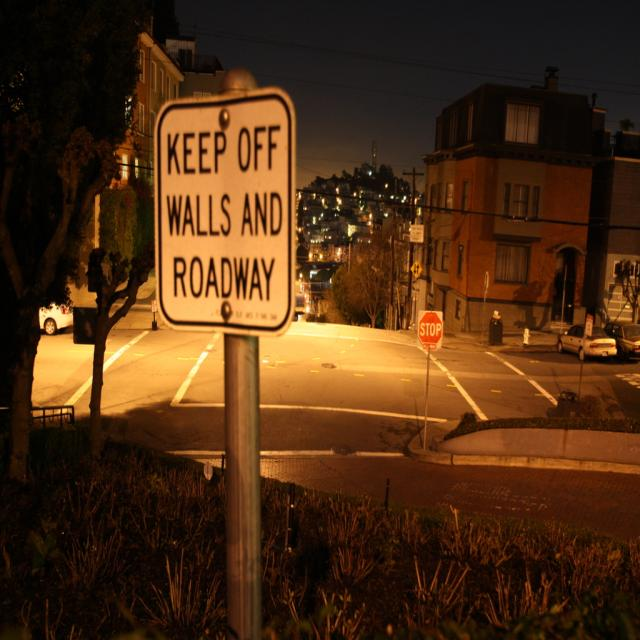Stop-sign: (416, 311, 443, 351)
